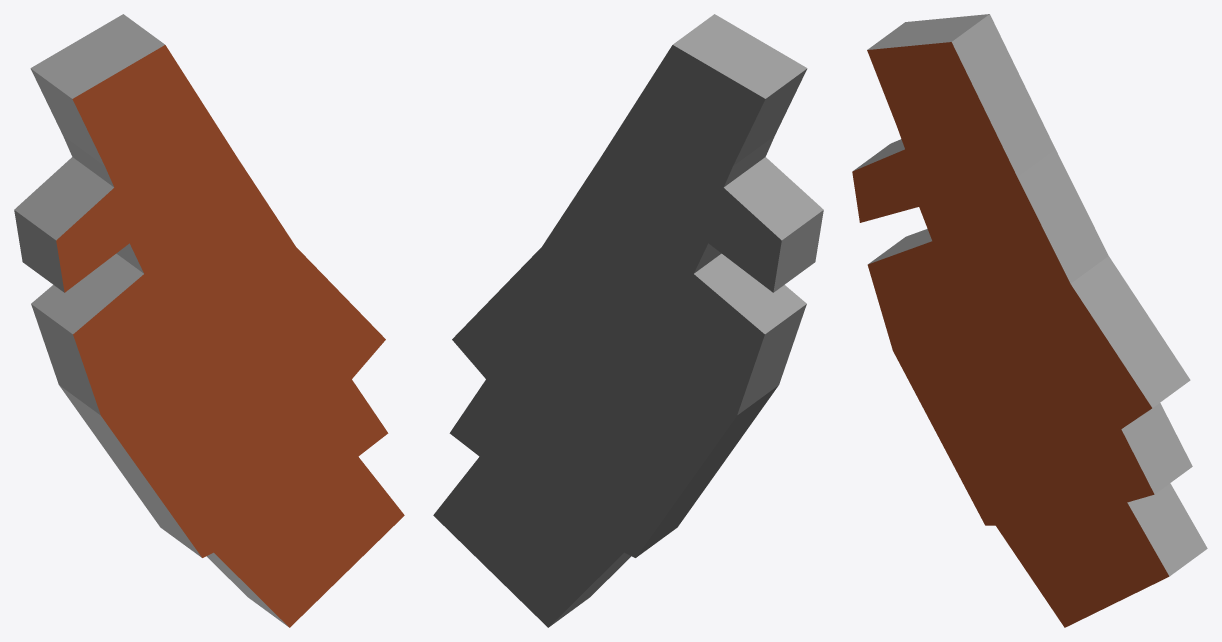
File: construction_2060_assumed_A_Casa_h6m.obj
The picture shows the model from 3 angles, left to right: view 1: azimuth 30°, elevation 25°; view 2: azimuth 150°, elevation 25°; view 3: azimuth 330°, elevation 25°; orthographic projection. The views are drawn at different scales.
Visible parts, largest first — view 1: construction_2060_assumed_A_Casa; view 2: construction_2060_assumed_A_Casa; view 3: construction_2060_assumed_A_Casa.
Part boxes in pixels (x1=…): construction_2060_assumed_A_Casa: x1=14, y1=14, x2=404, y2=627; construction_2060_assumed_A_Casa: x1=433, y1=14, x2=823, y2=627; construction_2060_assumed_A_Casa: x1=852, y1=14, x2=1207, y2=627.
Size of the model in its own units: 28.74 by 48.34 by 6.
